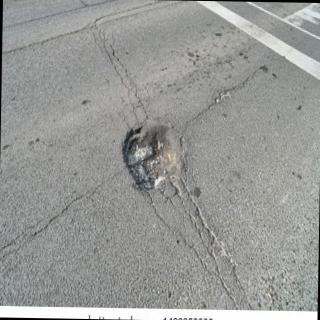pothole: (122, 120, 183, 191)
